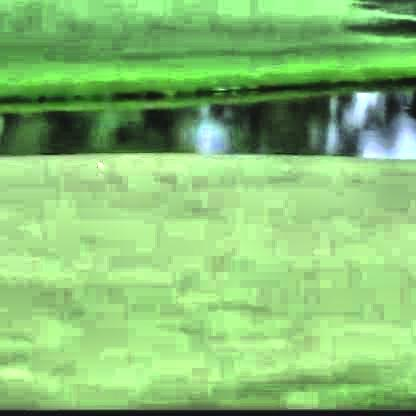golfball: (95, 157, 102, 167)
